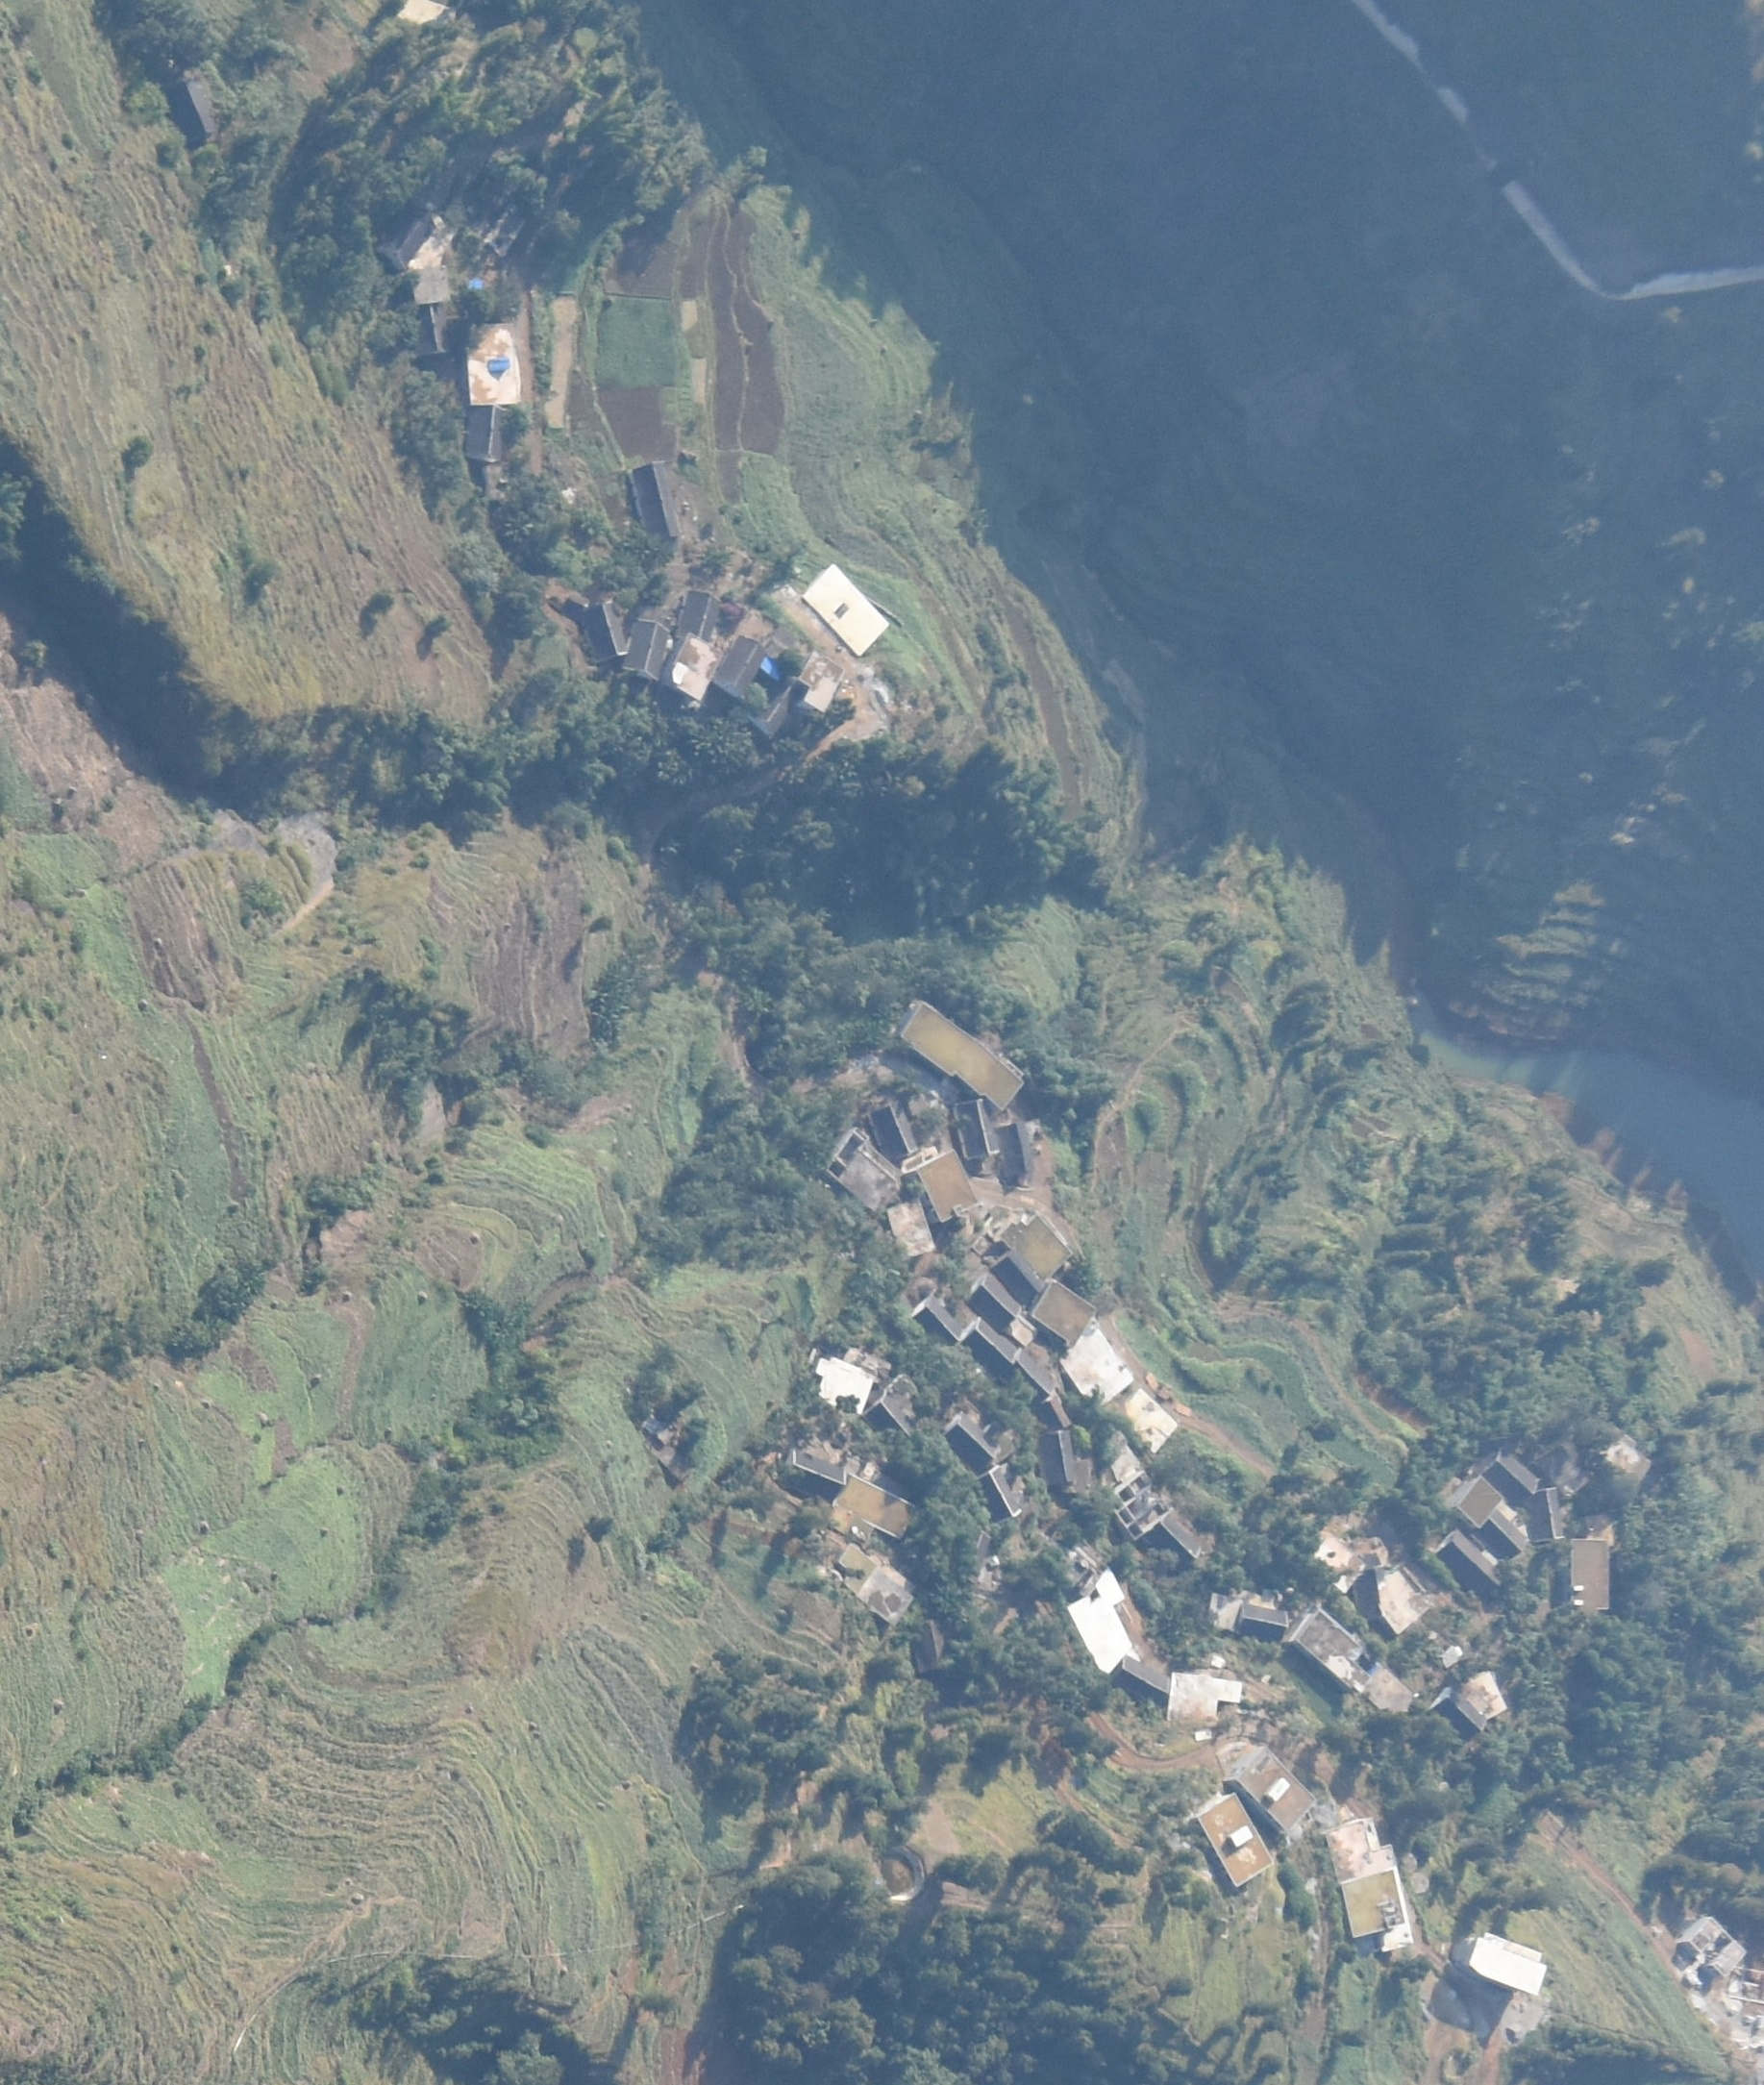building: (892, 997, 1022, 1109), (1284, 1606, 1414, 1712), (1319, 1816, 1416, 1954), (803, 561, 889, 654), (756, 638, 836, 736), (1225, 1744, 1312, 1830), (1197, 1791, 1274, 1887), (1451, 1931, 1550, 2001), (1067, 1572, 1137, 1670), (833, 1541, 912, 1623), (1055, 1326, 1134, 1403), (826, 1132, 901, 1209), (668, 589, 719, 700), (1433, 1529, 1510, 1597), (815, 1343, 889, 1413), (465, 322, 523, 408), (833, 1476, 913, 1538), (1675, 1914, 1746, 1980), (1582, 1429, 1659, 1490), (1430, 1674, 1507, 1735), (630, 460, 681, 547), (1167, 1670, 1246, 1726), (1372, 1564, 1435, 1634), (969, 1273, 1038, 1336), (999, 1217, 1069, 1277), (562, 596, 626, 659), (1034, 1279, 1094, 1347), (915, 1149, 973, 1219), (383, 212, 451, 269), (1116, 1391, 1176, 1454), (163, 75, 217, 142), (1563, 1539, 1612, 1613), (714, 633, 763, 701), (863, 1392, 922, 1448), (780, 1447, 850, 1494), (1479, 1448, 1542, 1499), (885, 1195, 933, 1259), (1445, 1473, 1503, 1525), (954, 1097, 1001, 1160), (1211, 1597, 1290, 1634), (992, 1252, 1046, 1305), (943, 1408, 997, 1461), (1314, 1536, 1368, 1588), (908, 1294, 966, 1343), (870, 1104, 917, 1163), (962, 1317, 1019, 1366), (478, 198, 525, 255), (625, 617, 667, 680), (1095, 1433, 1143, 1487), (1039, 1427, 1078, 1492), (1524, 1487, 1566, 1543), (469, 406, 509, 464), (1157, 1515, 1204, 1564), (999, 1119, 1038, 1179), (978, 1468, 1020, 1522), (409, 308, 455, 357), (1475, 1510, 1526, 1553), (1116, 1656, 1169, 1698), (1008, 1352, 1053, 1398), (910, 1618, 950, 1667), (406, 268, 450, 306), (961, 1529, 990, 1569), (1048, 1403, 1069, 1429)
